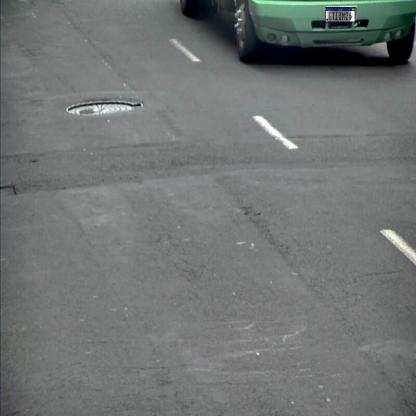PlacaM: (326, 7, 355, 22)
